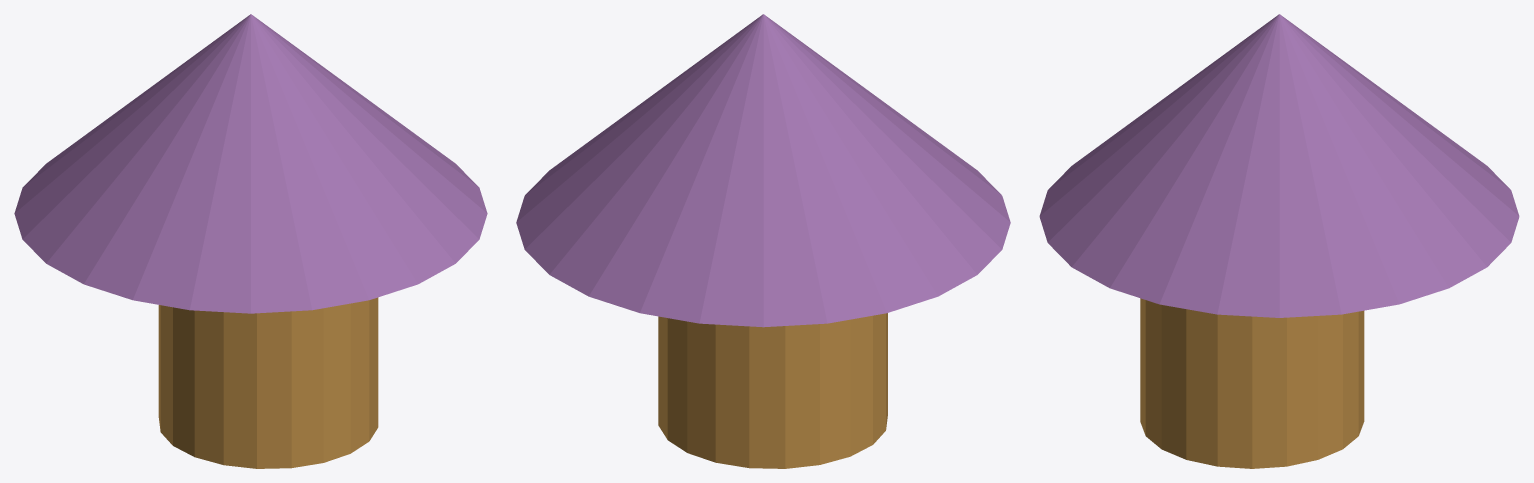
File: Glorious Leelo-Gogo.glb
3 renders of one model, left to right at view 1: azimuth 30°, elevation 25°; view 2: azimuth 150°, elevation 25°; view 3: azimuth 270°, elevation 25°, orthographic. The views are drawn at different scales.
Visible parts, largest first — view 1: Mesh_Mesh_head_geo.001_lambert2SG.001; view 2: Mesh_Mesh_head_geo.001_lambert2SG.001; view 3: Mesh_Mesh_head_geo.001_lambert2SG.001.
Boxes of the visible parts, x1,y1,x2,y2 form: Mesh_Mesh_head_geo.001_lambert2SG.001: (14, 14, 487, 468); Mesh_Mesh_head_geo.001_lambert2SG.001: (516, 14, 1010, 468); Mesh_Mesh_head_geo.001_lambert2SG.001: (1039, 14, 1519, 468).
Bounding box in the file's own units: 42.87 × 39.96 × 42.87.
